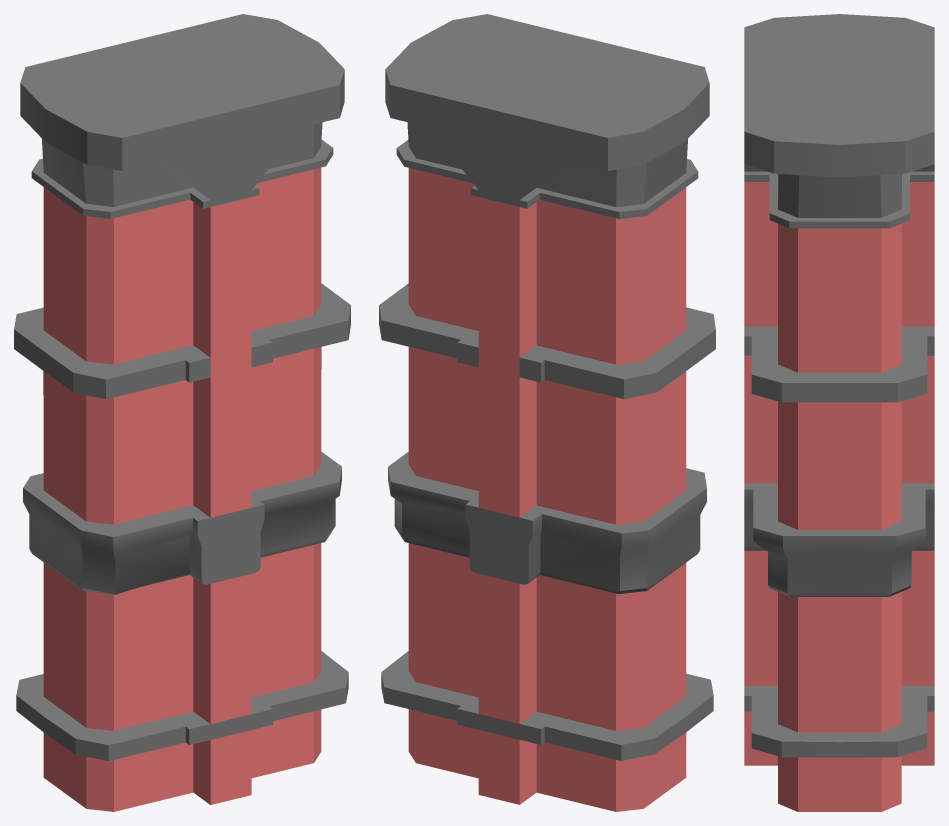
Rendered from PillarDoor.fbx.
3 views of the same model, side by side, from view 1: azimuth 30°, elevation 25°; view 2: azimuth 150°, elevation 25°; view 3: azimuth 270°, elevation 25° (orthographic).
Visible parts, largest first — view 1: Base007; view 2: Base007; view 3: Base007.
Part boxes in pixels (x1,y1,x2,y2): Base007: (14, 14, 350, 811); Base007: (379, 14, 715, 811); Base007: (744, 14, 934, 811).
Size of the model in its own units: 1.69 by 4 by 1.02.
